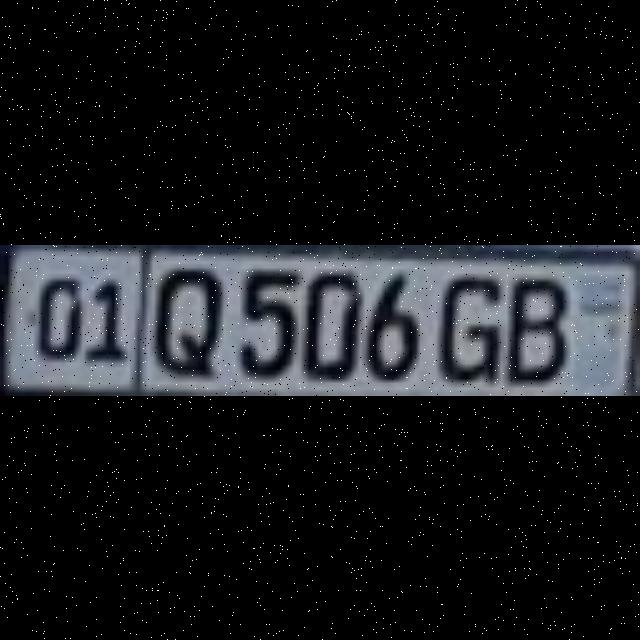0: (298, 264, 358, 376), (30, 269, 76, 355)
1: (81, 270, 121, 350)
5: (238, 260, 292, 370)
6: (363, 264, 413, 376)
B: (504, 269, 564, 375)
G: (433, 269, 499, 375)
Q: (146, 260, 217, 370)
